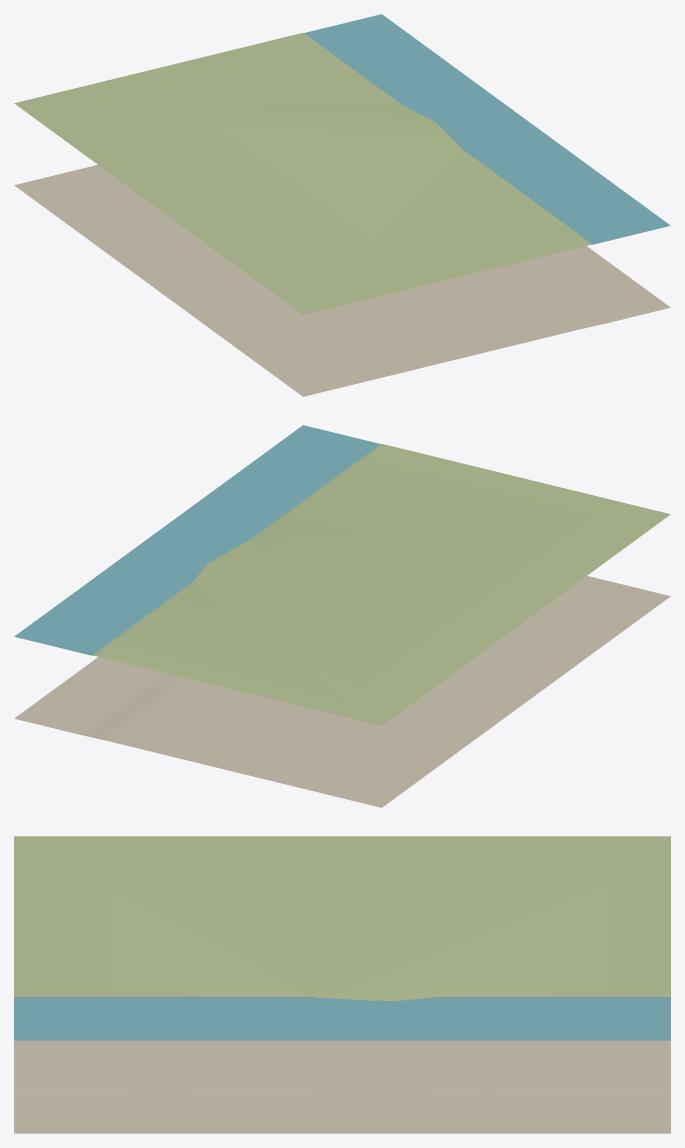
The picture shows the model from 3 angles, top to bottom: view 1: azimuth 30°, elevation 25°; view 2: azimuth 150°, elevation 25°; view 3: azimuth 270°, elevation 25°; orthographic projection. The views are drawn at different scales.
Visible parts, largest first — view 1: s_-13_3__grass, s_-13_3__soil, s_-13_3__water; view 2: s_-13_3__grass, s_-13_3__soil, s_-13_3__water; view 3: s_-13_3__grass, s_-13_3__soil, s_-13_3__water, s_-13_3__shore_bank.
Part boxes in pixels (x1,y1,x2,y2): s_-13_3__grass: [14, 33, 592, 314]; s_-13_3__soil: [14, 165, 670, 396]; s_-13_3__water: [304, 14, 670, 244]; s_-13_3__grass: [92, 444, 670, 725]; s_-13_3__soil: [14, 576, 670, 807]; s_-13_3__water: [14, 425, 380, 655]; s_-13_3__grass: [14, 836, 670, 1001]; s_-13_3__soil: [14, 997, 670, 1133]; s_-13_3__water: [14, 997, 670, 1040]; s_-13_3__shore_bank: [14, 997, 670, 1001].
Size of the model in its own units: 94 by 20.14 by 128.
